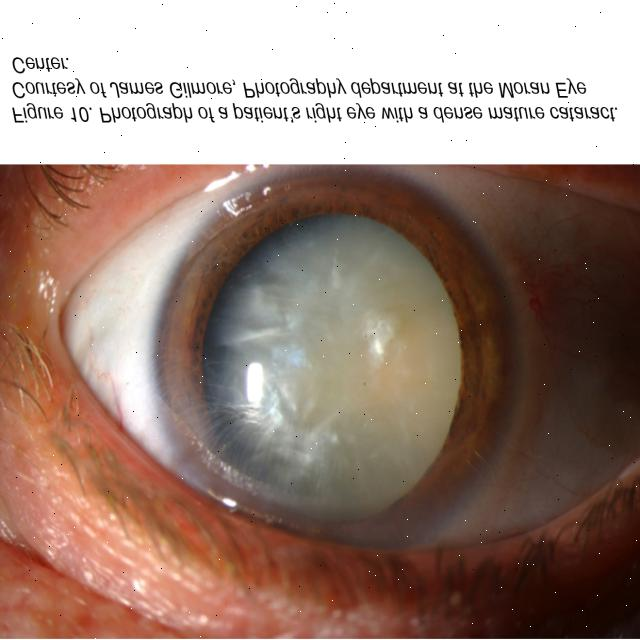Cataract: (154, 162, 526, 566)
